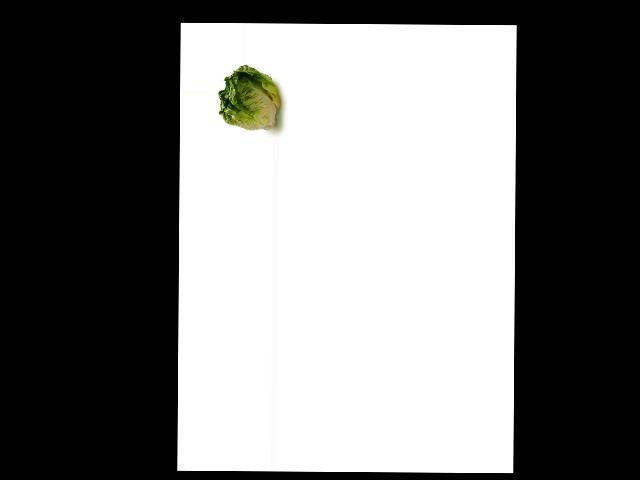lettuce: (216, 61, 279, 134)
